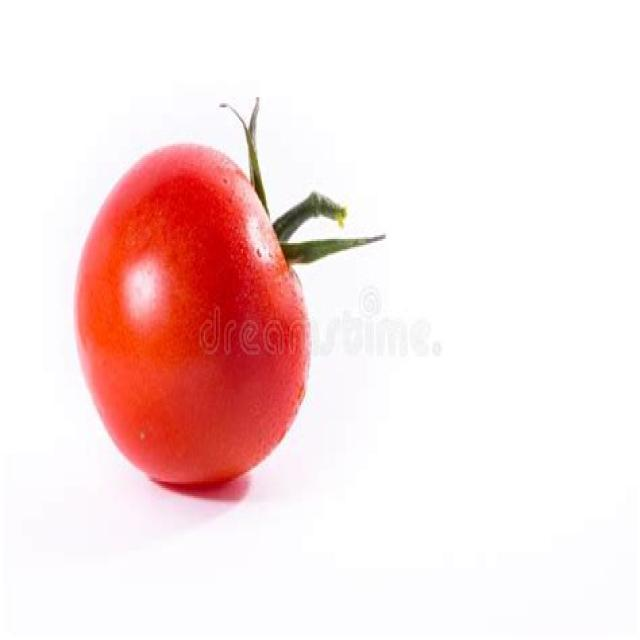Tomato: (73, 143, 373, 500)
